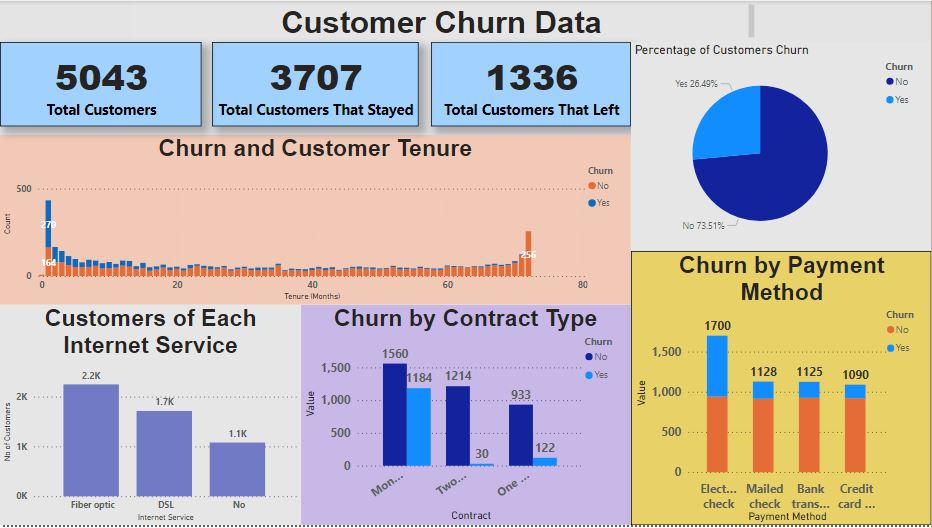

This screenshot's page, from the dashboard's own definition file:
{"tool":"powerbi","page":{"name":"Page 1","canvas":[1280,720],"ordinal":0},"visuals":[{"type":"clusteredColumnChart","title":"Top 5 Companies with the Highest Fundings","fields":{"Y":["CountNonNull(training_data.Churn)"],"Category":["training_data.Contract"],"Series":["training_data.Churn"]},"box":[844.9,57.1,435.1,302.4],"z":0},{"type":"areaChart","title":"Total Amount of Funding Each Year","fields":{"Category":["Sheet1 (2).Year"],"Y":["Sum(Sheet1 (2).Amount($))"]},"box":[0,188.1,379.6,245.2],"z":1000},{"type":"barChart","title":"Sectors with Highest Number of Startups","fields":{"Y":["CountNonNull(training_data.Churn)"],"Category":["training_data.PaymentMethod"],"Series":["training_data.Churn"]},"box":[844.9,381.3,435.1,339.3],"z":2000},{"type":"card","fields":{"Values":["CountNonNull(training_data.Churn)"]},"box":[570.4,57,275.1,115.8],"z":3000},{"type":"areaChart","title":"Total Companies Funded Each Year","fields":{"Category":["Sheet1 (2).Year"],"Y":["CountNonNull(Sheet1 (2).Company/Brand)"]},"box":[413.2,188.1,396.4,245.2],"z":4000},{"type":"pieChart","title":"Cities with the Most Startup Headquarters","fields":{"Y":["CountNonNull(Sheet1.Company/Brand)"],"Category":["Sheet1.City (groups)"]},"box":[398.1,433.4,411.5,267.1],"z":5000},{"type":"textbox","box":[179.7,0,861.7,57.1],"z":6000},{"type":"card","fields":{"Values":["CountNonNull(training_data.Churn)"]},"box":[268.4,57,283.5,115.8],"z":7000},{"type":"card","fields":{"Values":["Count(training_data.customerID)"]},"box":[0,57,258.3,115.8],"z":8000},{"type":"textbox","box":[0,433.4,189.8,134.4],"z":9000},{"type":"textbox","box":[189.8,433.4,189.8,134.4],"z":10000},{"type":"textbox","box":[189.8,567.8,189.8,152.9],"z":11000},{"type":"textbox","box":[0,567.8,189.8,152.9],"z":12000}]}

Visuals, with their boxes in screenshot pixels (x1, y1, x2, y2), scaled from the page's 1280x720 canvas onto the 932x528 screenshot:
"Top 5 Companies with the Highest Fundings" clusteredColumnChart: 615/42/931/264
"Total Amount of Funding Each Year" areaChart: 0/138/276/318
"Sectors with Highest Number of Startups" barChart: 615/280/931/527
card - CountNonNull(training_data.Churn): 415/42/616/127
"Total Companies Funded Each Year" areaChart: 301/138/589/318
"Cities with the Most Startup Headquarters" pieChart: 290/318/589/514
textbox: 131/0/758/42
card - CountNonNull(training_data.Churn): 195/42/402/127
card - Count(training_data.customerID): 0/42/188/127
textbox: 0/318/138/416
textbox: 138/318/276/416
textbox: 138/416/276/527
textbox: 0/416/138/527
